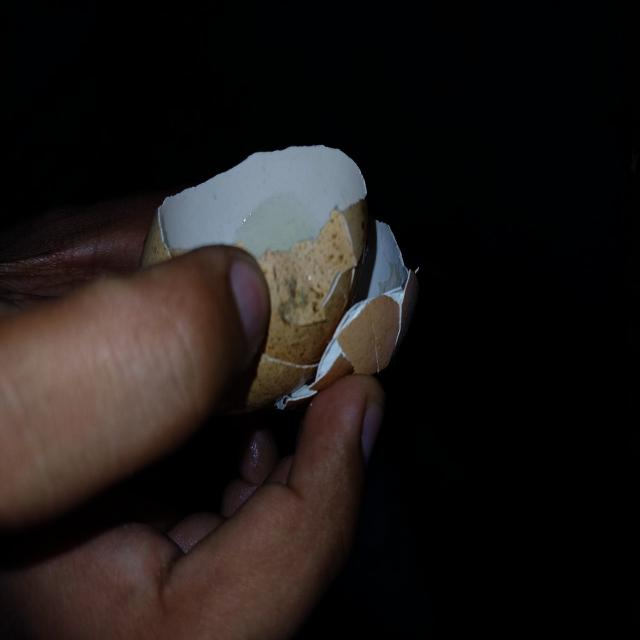organic: (247, 144, 421, 402)
